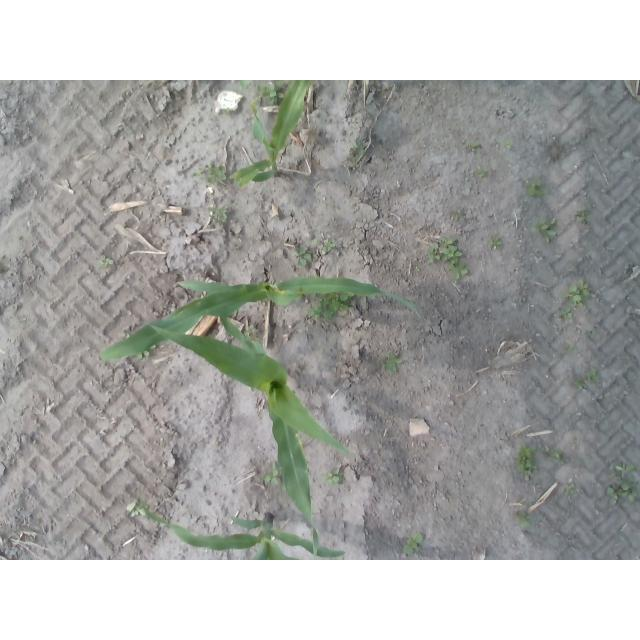Maize: (144, 318, 351, 559), (97, 277, 423, 360), (144, 513, 345, 559), (229, 81, 311, 187)
Weeds: (429, 238, 462, 263), (607, 482, 637, 505), (515, 446, 533, 475), (568, 279, 588, 301), (539, 219, 558, 242), (403, 534, 423, 555), (209, 206, 231, 222), (264, 462, 279, 485), (206, 164, 226, 181), (314, 305, 335, 321), (542, 446, 563, 462), (449, 263, 468, 279), (528, 180, 547, 196), (351, 138, 366, 156), (269, 85, 283, 104), (323, 297, 342, 311), (515, 512, 531, 528), (128, 502, 145, 517), (385, 357, 403, 371), (616, 463, 632, 478), (297, 249, 312, 265), (324, 469, 341, 483), (562, 305, 575, 319), (452, 208, 466, 221), (577, 207, 587, 223), (570, 378, 586, 388), (563, 484, 576, 496), (467, 141, 481, 152), (100, 254, 112, 266), (587, 369, 598, 382), (322, 240, 334, 251), (491, 237, 502, 247), (480, 167, 491, 177), (340, 293, 355, 300), (502, 140, 511, 149), (599, 393, 611, 399)
